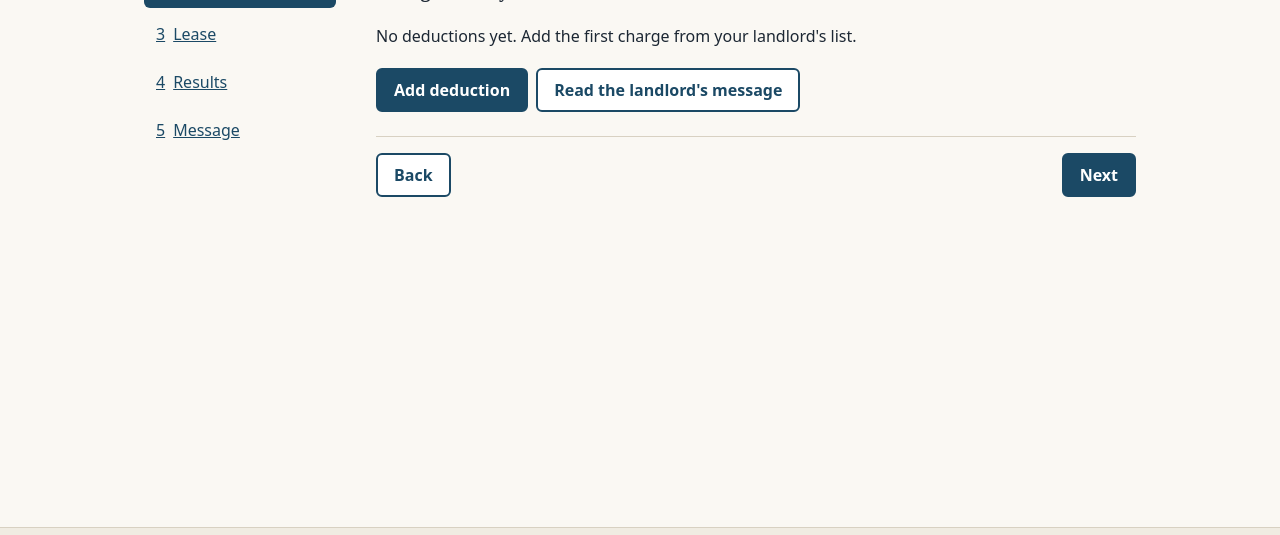
it: Deductions step › F1-R5 the label is required for the rent kind too, and the form says so next to the field
Click the button "Add deduction" at (452, 90), box [376,68,528,112]
(page scrolled)
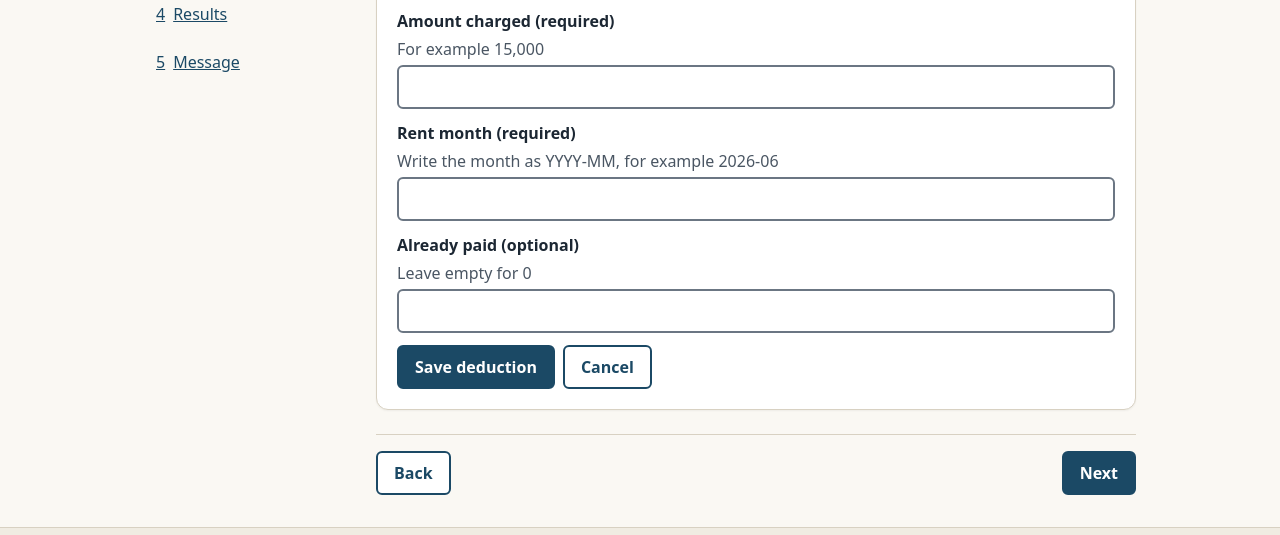
Click the button "Save deduction" at (476, 367), box [397,345,555,389]
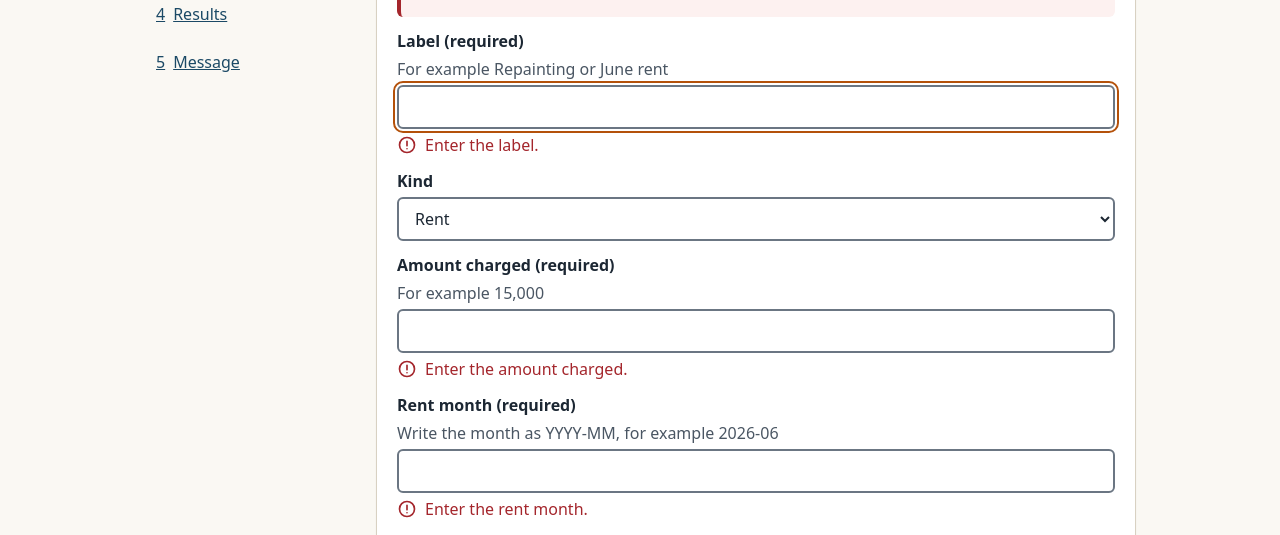
Expected: the text "Enter the label." is shown, [425,133,539,157]
